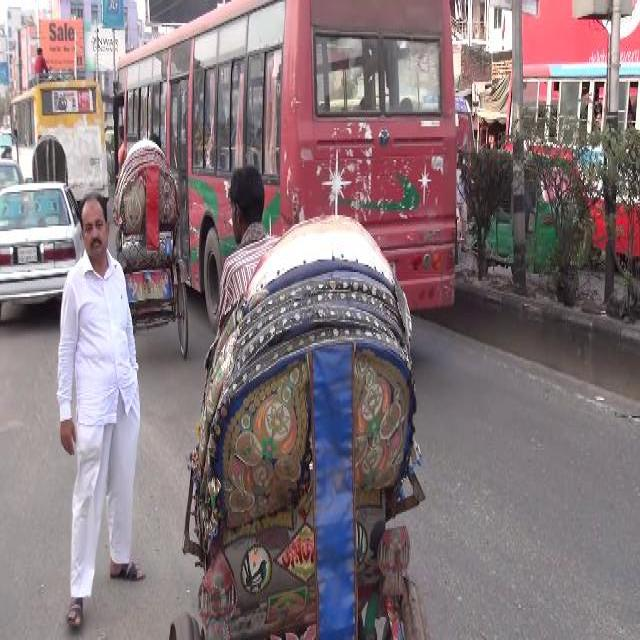bus: (108, 2, 462, 314), (505, 55, 639, 272), (2, 75, 110, 199)
car: (1, 178, 88, 322)
rickshaw: (167, 166, 436, 638), (107, 125, 189, 366)
three wheelers -CNG-: (468, 143, 586, 305)
